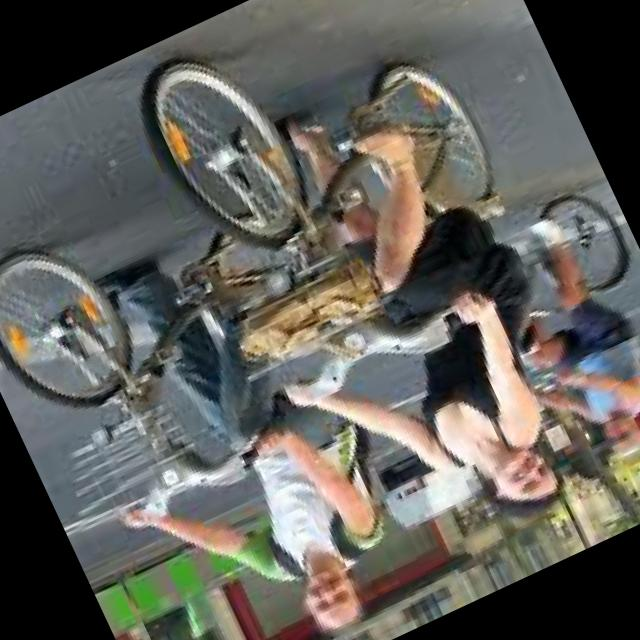bareface: (474, 434, 578, 537), (280, 544, 382, 640)
